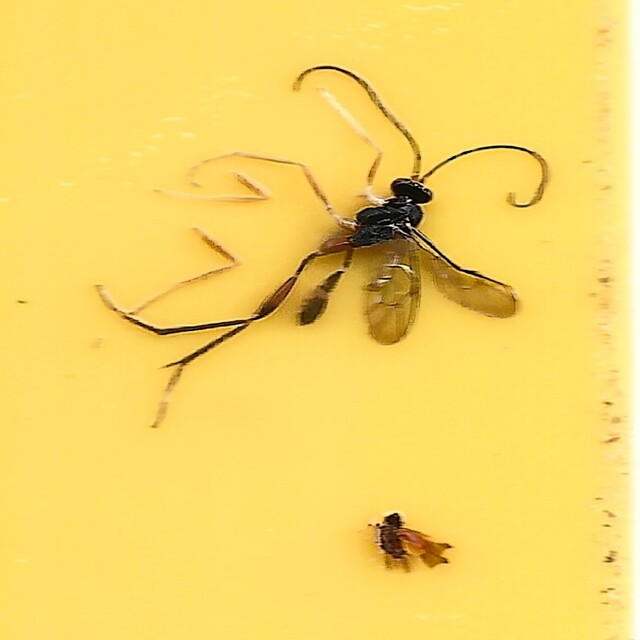Hemiptera: (374, 513, 453, 575)
Hymenoptera: (92, 65, 548, 427)
